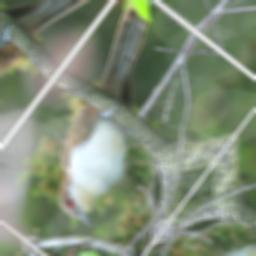Cuckoo: (0, 0, 222, 232)
